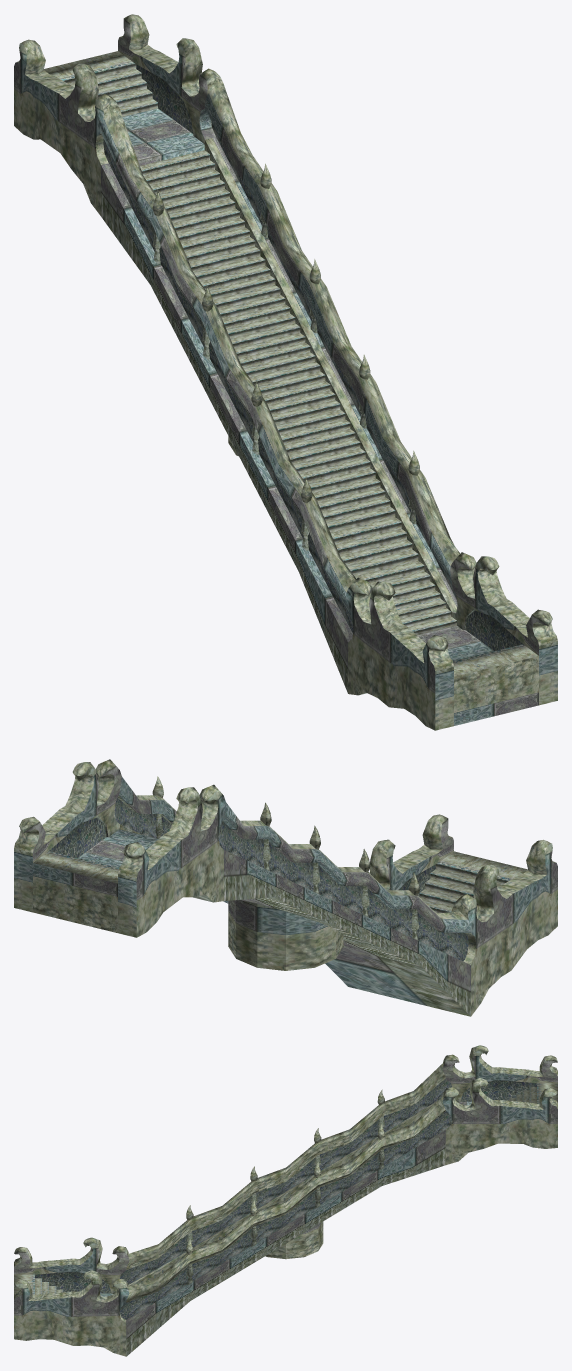
File: k_spkaidan_00.dae
3 renders of one model, top to bottom at view 1: azimuth 30°, elevation 25°; view 2: azimuth 150°, elevation 25°; view 3: azimuth 270°, elevation 25°, orthographic. The views are drawn at different scales.
Parts seen in each view (by area): view 1: Shape 0, Shape 2, Shape 1; view 2: Shape 0, Shape 1, Shape 2; view 3: Shape 0, Shape 1, Shape 2.
Part boxes in pixels (left/top/right/bottom): Shape 0: left=14, top=14, right=557, bottom=730; Shape 2: left=44, top=51, right=538, bottom=676; Shape 1: left=103, top=64, right=522, bottom=650; Shape 0: left=14, top=759, right=557, bottom=1016; Shape 1: left=49, top=798, right=468, bottom=960; Shape 2: left=33, top=851, right=527, bottom=913; Shape 0: left=14, top=1045, right=557, bottom=1356; Shape 1: left=35, top=1079, right=536, bottom=1319; Shape 2: left=14, top=1083, right=557, bottom=1295.
Size of the model in its own units: 672 by 2162 by 3862.
